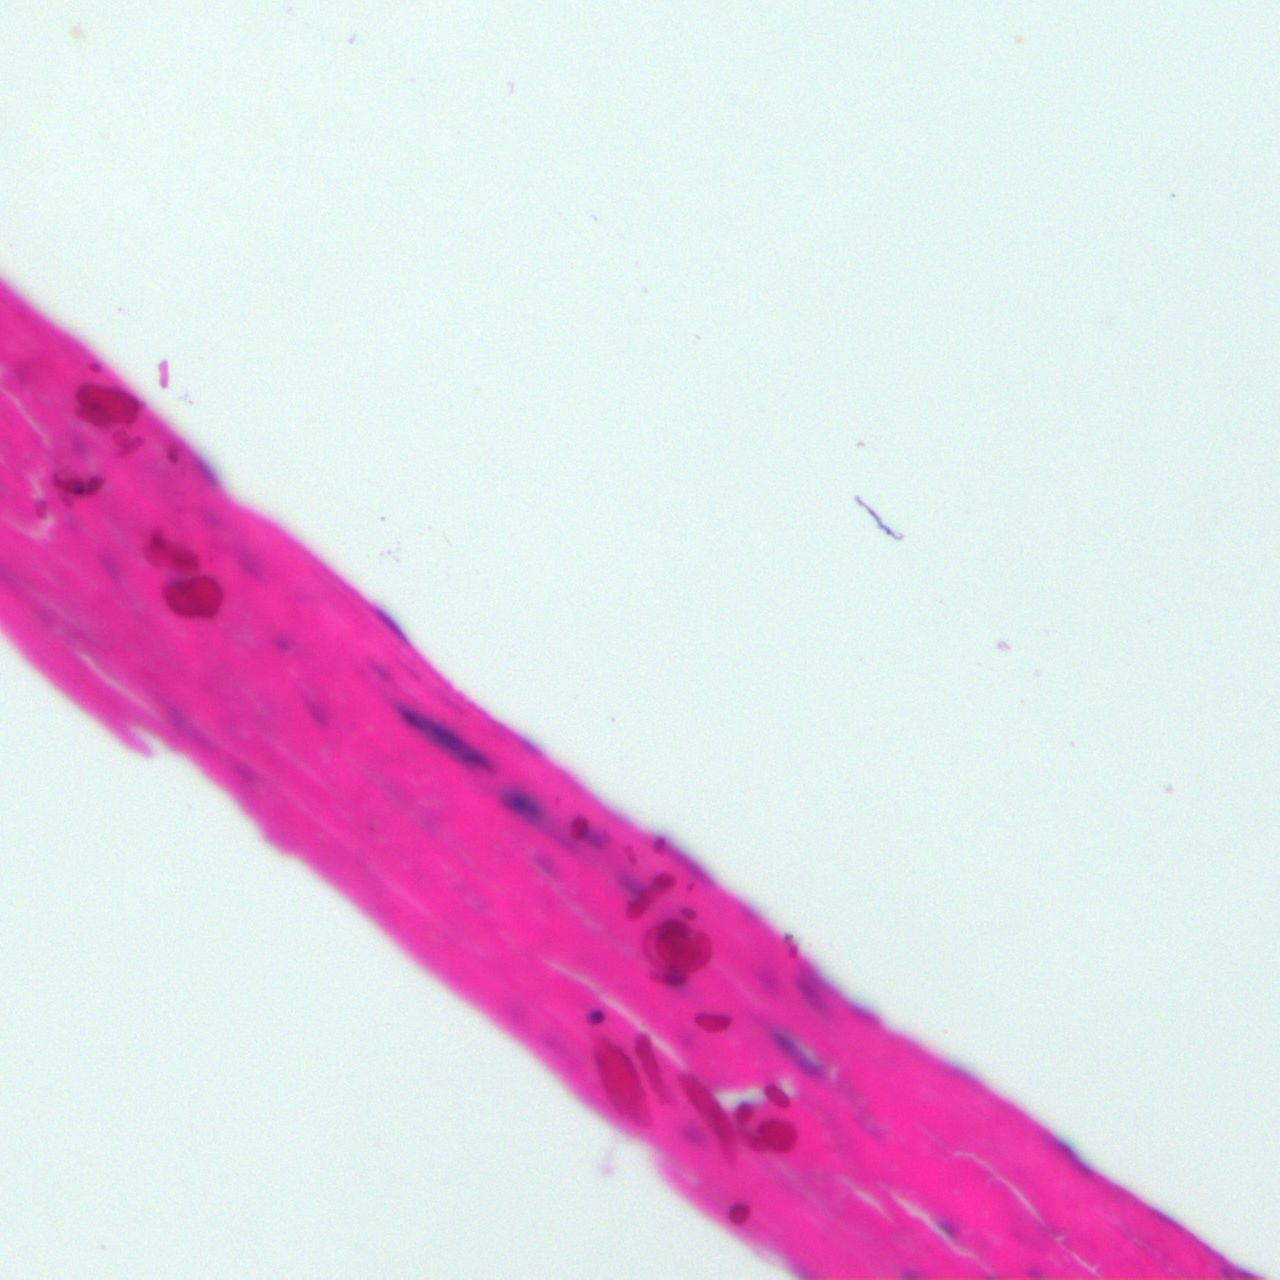nucleus-HE: (385, 685, 503, 791), (758, 1017, 834, 1090), (491, 775, 552, 833), (785, 965, 832, 1022), (291, 682, 335, 734), (269, 629, 292, 651), (937, 1214, 956, 1237), (583, 1006, 605, 1025)
